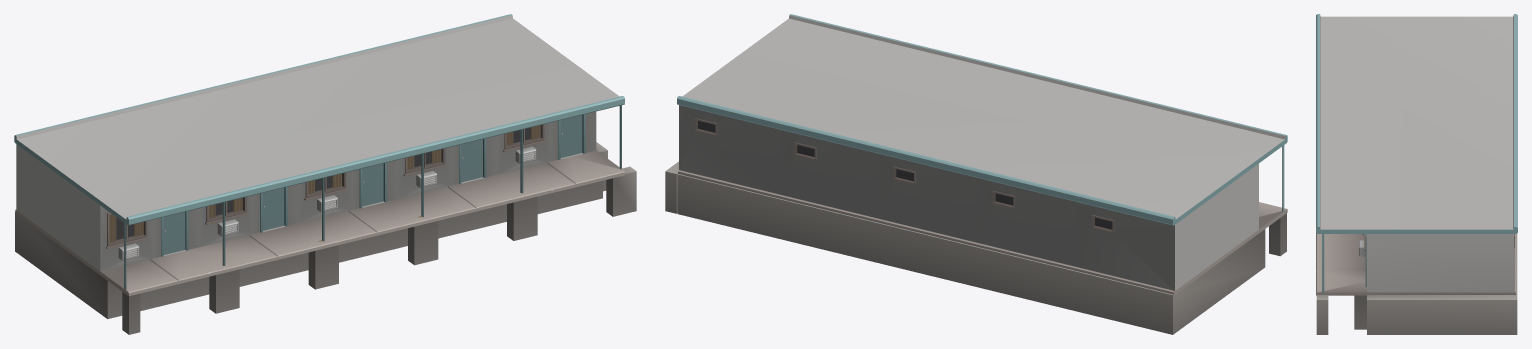
Rendered from rooms.glb.
3 views of the same model, side by side, from view 1: azimuth 30°, elevation 25°; view 2: azimuth 150°, elevation 25°; view 3: azimuth 270°, elevation 25° (orthographic). The views are drawn at different scales.
Visible parts, largest first — view 1: rooms; view 2: rooms; view 3: rooms.
Part boxes in pixels (box(x1,y1,x2,y2)): rooms: box(14, 14, 636, 334); rooms: box(665, 14, 1287, 334); rooms: box(1316, 14, 1517, 334).
Size of the model in its own units: 20.48 by 4.5 by 8.
